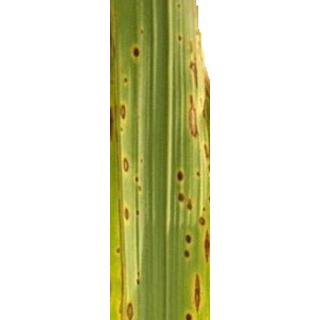bercak-Cokelat: (112, 99, 140, 129), (120, 45, 149, 67), (118, 158, 143, 183), (120, 204, 140, 226), (175, 191, 197, 210), (178, 155, 190, 189), (177, 233, 194, 253), (120, 72, 133, 91), (178, 30, 193, 45), (197, 214, 208, 230)
